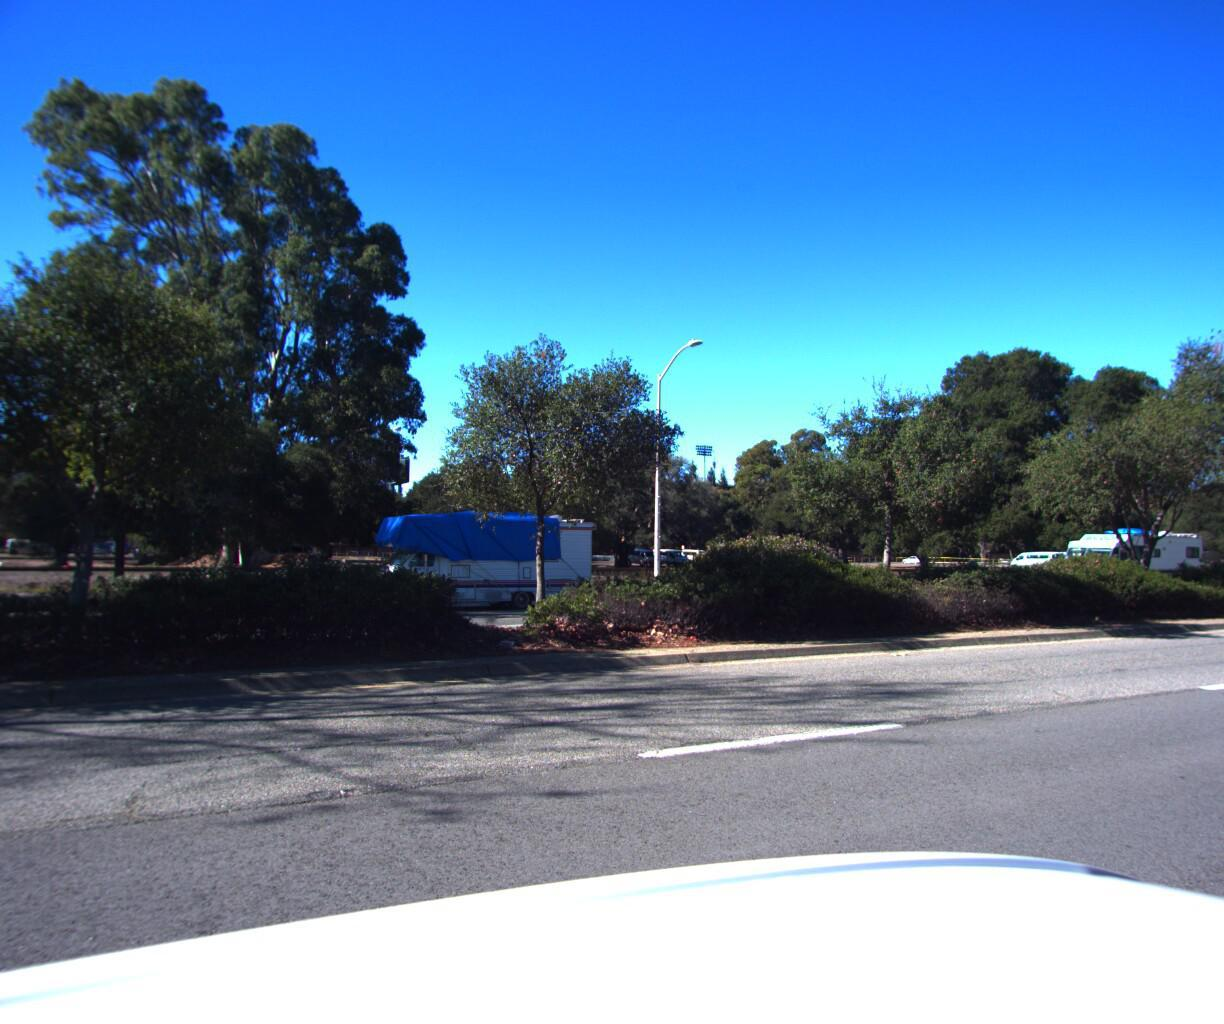other_vehicle: (352, 498, 608, 617), (1049, 518, 1211, 592)
